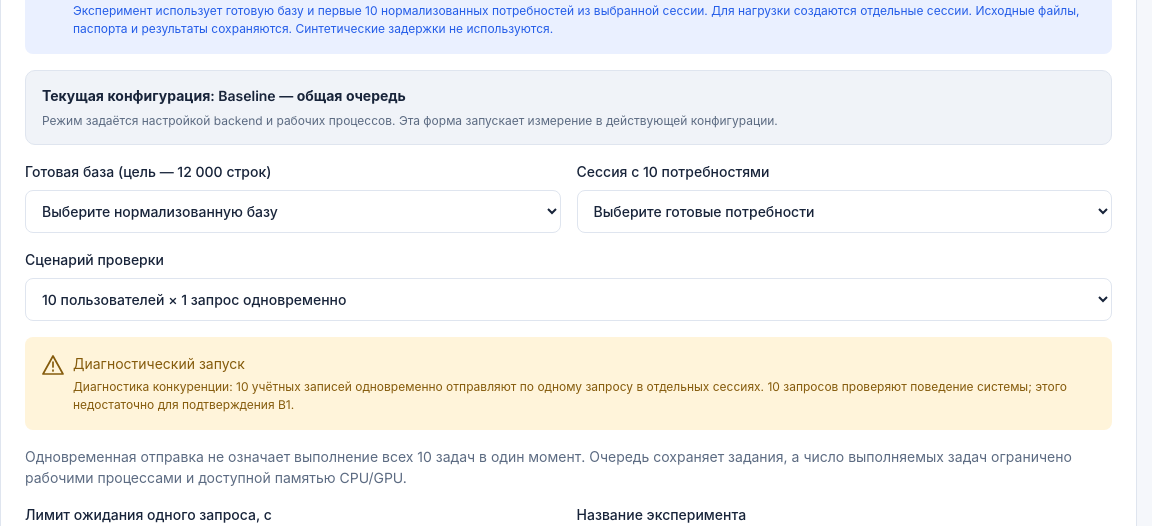
B1 real backend experiment › requires ten normalized requirements and sends the selected existing session IDs
Expected: the text "Текущая конфигурация: Baseline — общая очередь" is shown, [42,87,406,104]
Select "База 12 тысяч — 12 000 строк" in the dropdown labelled "Готовая база (цель — 12 000 строк)" at (293, 212), box [25,190,560,233]
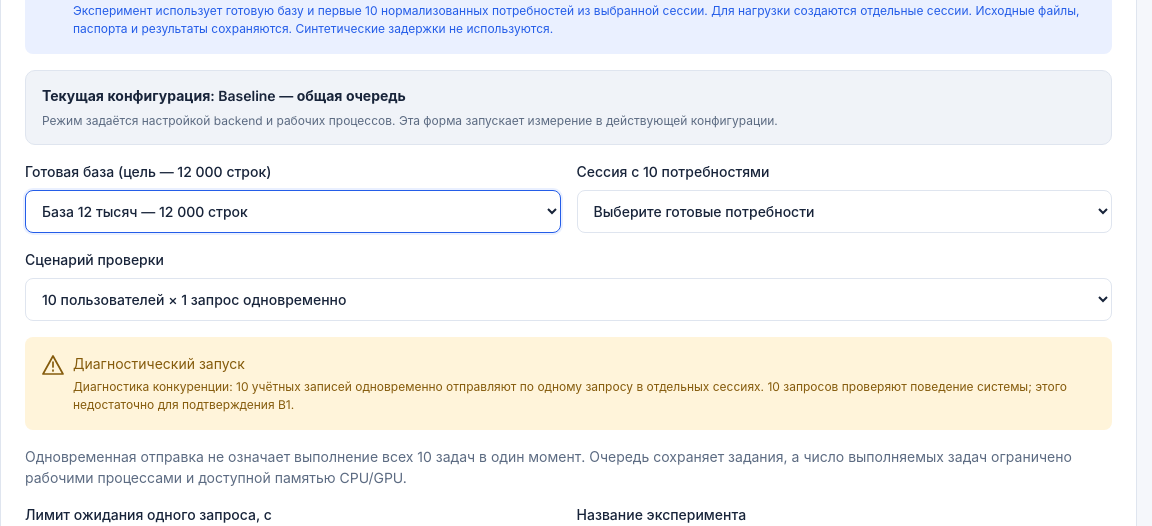
Select "Потребности для B1 — 10 потребностей" in the dropdown labelled "Сессия с 10 потребностями" at (844, 212), box [576,190,1112,233]
(page scrolled)
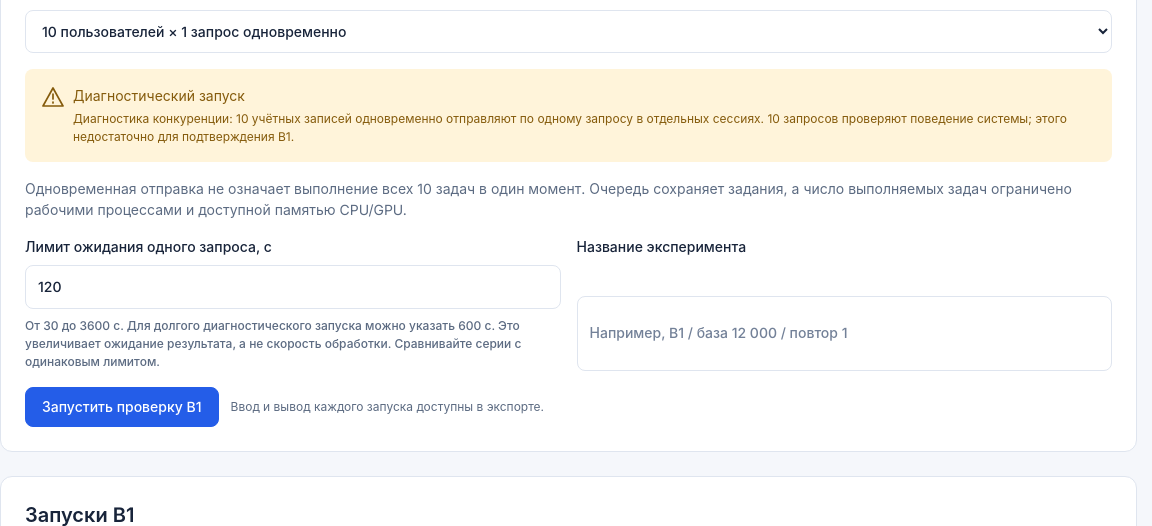
Result: the button "Запустить проверку B1" is enabled
Click the button "Запустить проверку B1".
click(122, 406)  # box [25,386,219,426]
(page scrolled)
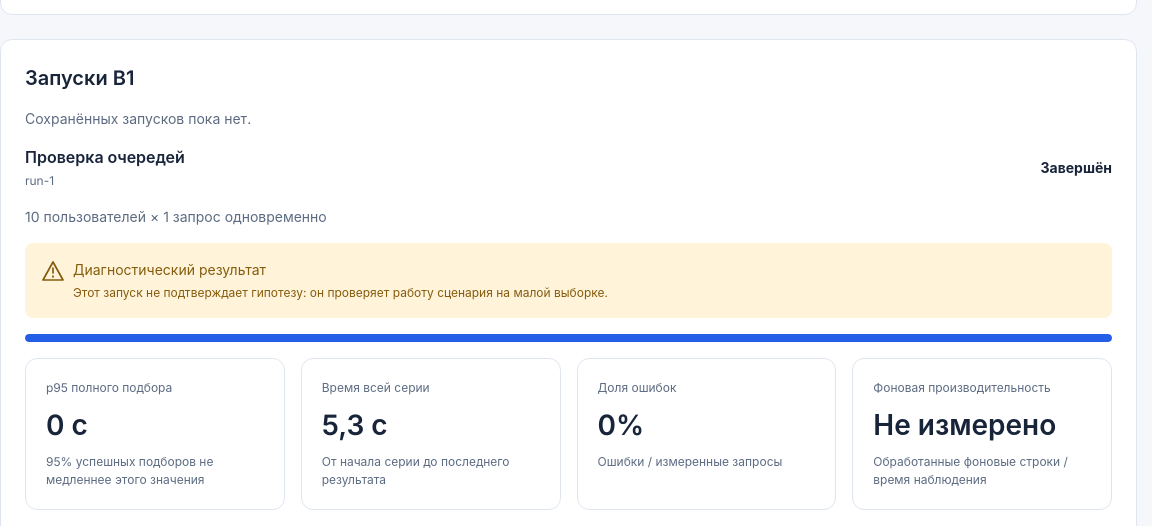
Result: the text "Диагностический результат" is shown at [73,260,266,278]
